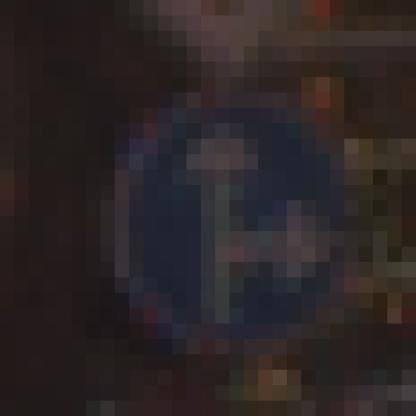Straight or Right: (87, 78, 331, 340)
